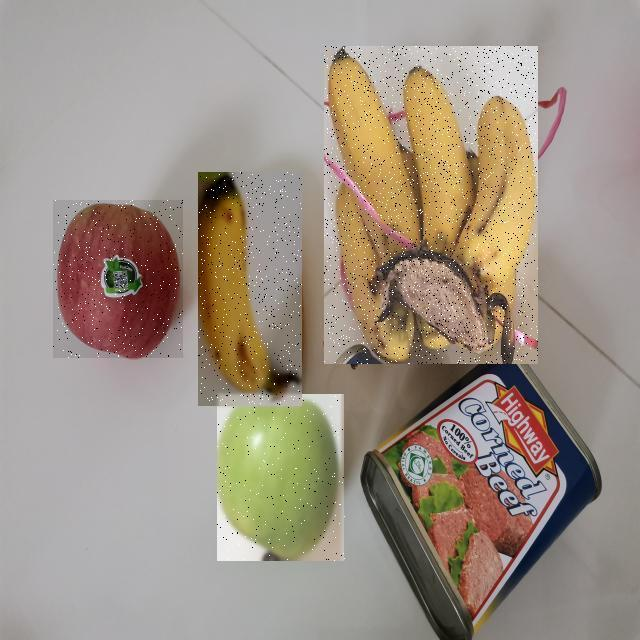Apple: (218, 394, 346, 561), (53, 201, 183, 359)
Banana: (324, 46, 538, 364), (199, 172, 303, 406)
